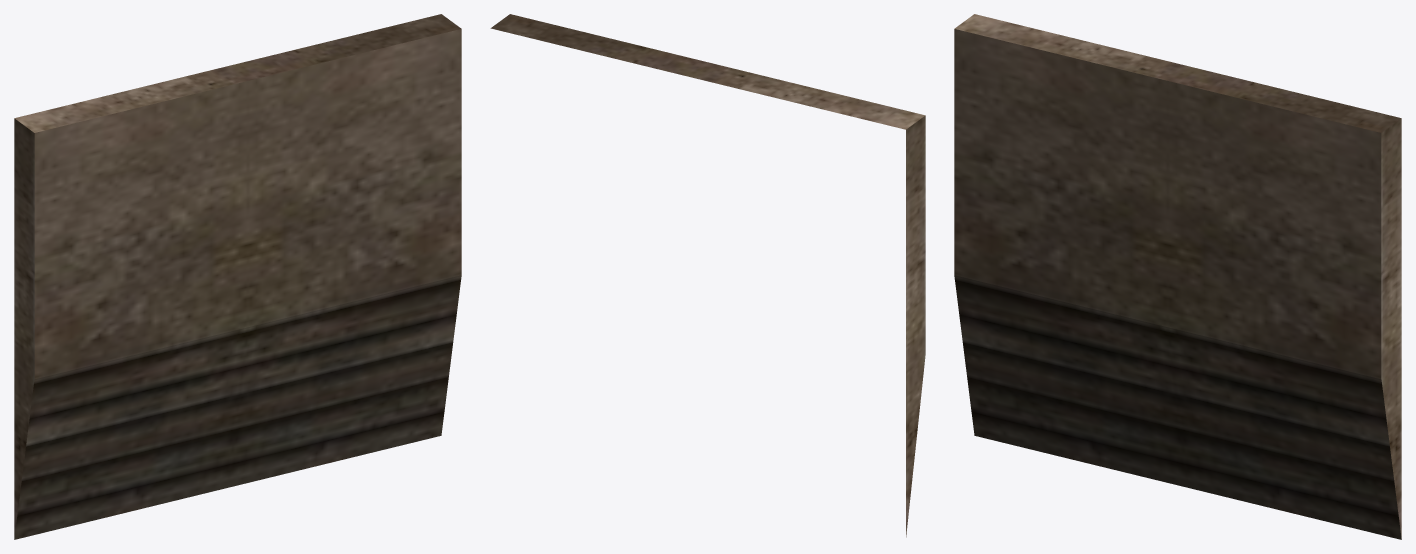
The picture shows the model from 3 angles, left to right: view 1: azimuth 30°, elevation 25°; view 2: azimuth 150°, elevation 25°; view 3: azimuth 330°, elevation 25°; orthographic projection. The views are drawn at different scales.
Visible parts, largest first — view 1: model_Object25; view 2: model_Object25; view 3: model_Object25.
Part boxes in pixels (x1=…): model_Object25: x1=14, y1=14, x2=461, y2=539; model_Object25: x1=490, y1=14, x2=925, y2=537; model_Object25: x1=954, y1=14, x2=1401, y2=539.
Size of the model in its own units: 1.48 by 1.39 by 0.1212.
Materials: 1 (1 with a texture image).
